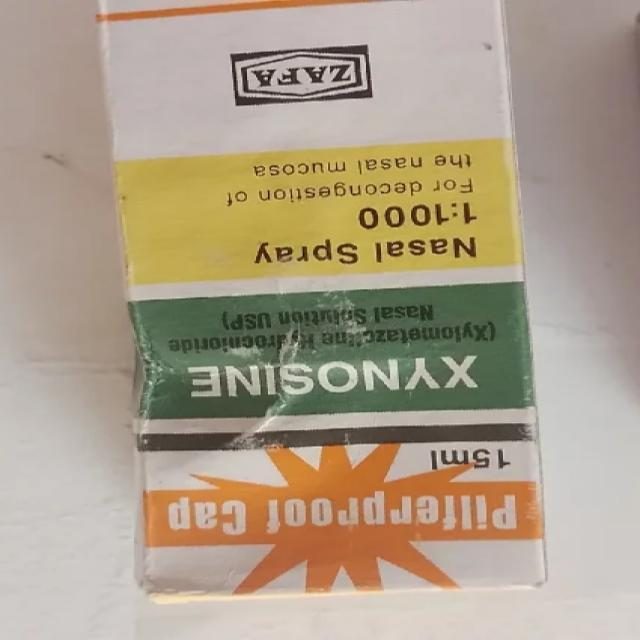drug-name: (176, 352, 494, 402)
